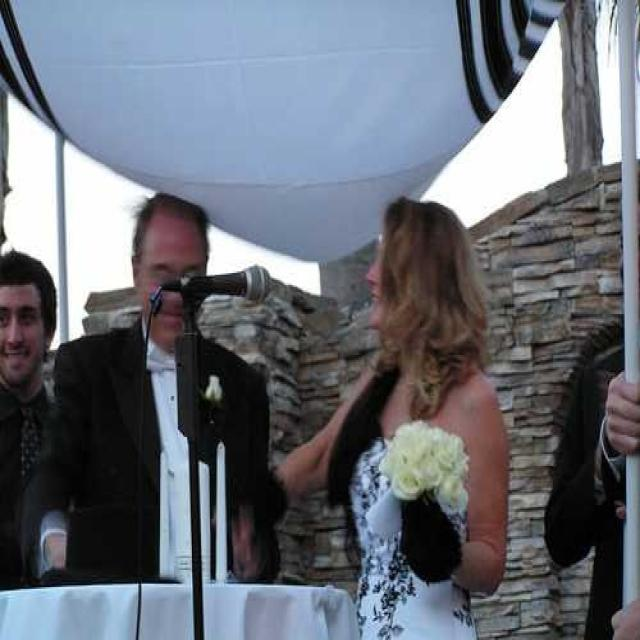microphone: (168, 258, 274, 310)
